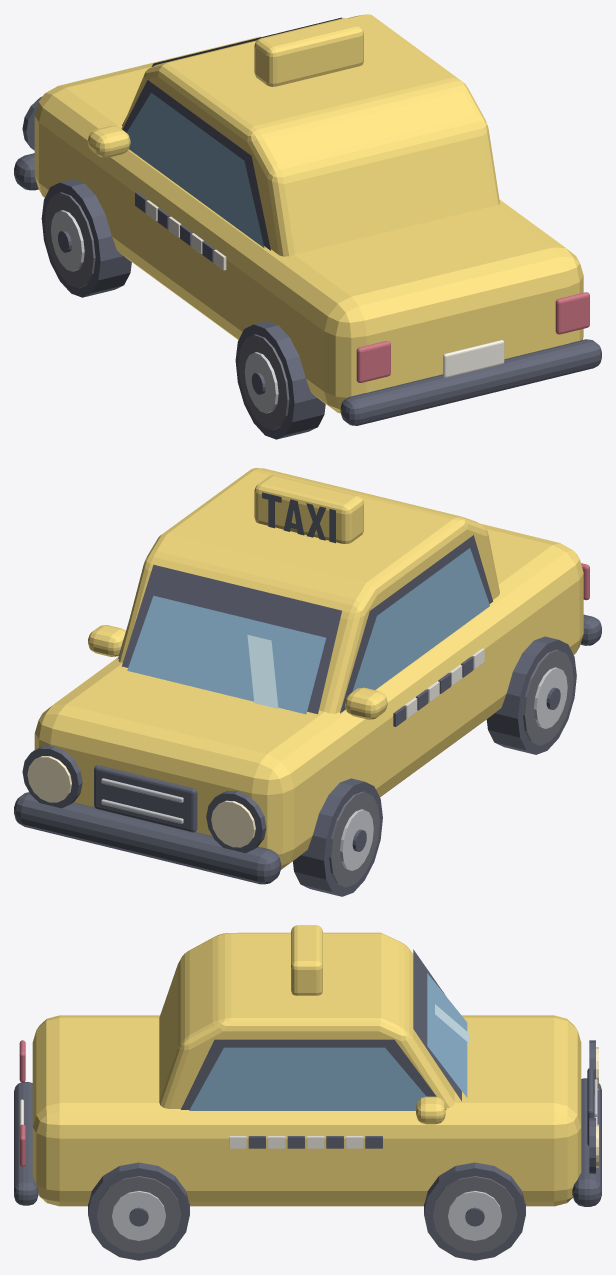
The model's file is taxi.glb.
3 views of the same model, one above another, from view 1: azimuth 30°, elevation 25°; view 2: azimuth 150°, elevation 25°; view 3: azimuth 270°, elevation 25° (orthographic). The views are drawn at different scales.
Parts seen in each view (by area): view 1: Rounded_body, Shaped_passenger_cabin, Side_glass, Rear_bumper, Roof_sign, Rubber_tire.002, Rubber_tire, Side_window_seal, Wheel_sidewall, Wheel_sidewall.002, License_plate, Silver_hub.002 (+5 smaller); view 2: Rounded_body, Shaped_passenger_cabin, Blue_windscreen, Front_bumper, Side_glass, Dark_windscreen_seal, Roof_sign, Grille, Rubber_tire.002, Rubber_tire, Side_window_seal, Wheel_sidewall (+11 smaller); view 3: Rounded_body, Shaped_passenger_cabin, Side_glass.001, Wheel_sidewall.001, Wheel_sidewall.003, Side_window_seal.001, Rubber_tire.001, Rubber_tire.003, Blue_windscreen, Roof_sign, Rear_bumper, Front_bumper (+4 smaller).
Part boxes in pixels (x1,y1,x2,y2): Rounded_body: [34, 36, 583, 413]; Shaped_passenger_cabin: [121, 14, 499, 256]; Side_glass: [126, 93, 264, 247]; Rear_bumper: [340, 339, 601, 425]; Roof_sign: [254, 18, 363, 86]; Rubber_tire.002: [235, 321, 325, 439]; Rubber_tire: [41, 179, 131, 297]; Side_window_seal: [122, 80, 270, 250]; Wheel_sidewall: [44, 192, 95, 288]; Wheel_sidewall.002: [238, 334, 289, 430]; License_plate: [443, 340, 504, 377]; Silver_hub.002: [244, 352, 278, 413]; Rounded_body: [34, 523, 583, 869]; Shaped_passenger_cabin: [118, 468, 499, 713]; Blue_windscreen: [127, 595, 326, 714]; Front_bumper: [14, 792, 281, 884]; Side_glass: [346, 548, 489, 711]; Dark_windscreen_seal: [121, 564, 341, 714]; Roof_sign: [254, 475, 363, 543]; Grille: [94, 765, 197, 832]; Rubber_tire.002: [486, 636, 576, 754]; Rubber_tire: [293, 778, 382, 896]; Side_window_seal: [340, 535, 493, 713]; Wheel_sidewall: [329, 791, 379, 887]; Rounded_body: [32, 1015, 581, 1206]; Shaped_passenger_cabin: [159, 932, 454, 1108]; Side_glass.001: [189, 1047, 426, 1110]; Wheel_sidewall.001: [432, 1176, 517, 1253]; Wheel_sidewall.003: [96, 1176, 181, 1253]; Side_window_seal.001: [180, 1039, 446, 1109]; Rubber_tire.001: [424, 1162, 525, 1260]; Rubber_tire.003: [88, 1162, 189, 1260]; Blue_windscreen: [427, 973, 467, 1097]; Roof_sign: [291, 925, 322, 995]; Rear_bumper: [14, 1082, 38, 1205]; Front_bumper: [572, 1078, 601, 1206].
Size of the model in its own units: 2.22 by 2.12 by 4.37.
